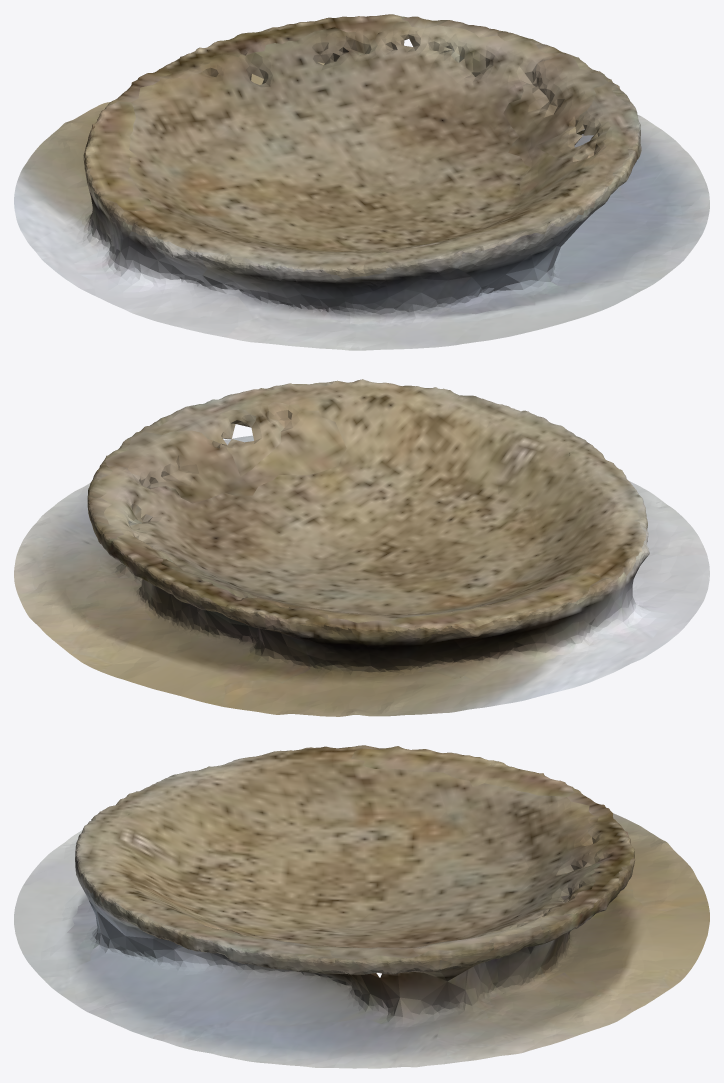
3 renders of one model, top to bottom at view 1: azimuth 30°, elevation 25°; view 2: azimuth 150°, elevation 25°; view 3: azimuth 270°, elevation 25°, orthographic.
Parts seen in each view (by area): view 1: mesh; view 2: mesh; view 3: mesh.
Part boxes in pixels (<box>): mesh: <box>14,14,709,350</box>; mesh: <box>14,379,709,716</box>; mesh: <box>14,745,709,1068</box>.
Bounding box in the file's own units: 0.2054 × 0.0259 × 0.2037.
Materials: 1 (1 with a texture image).
